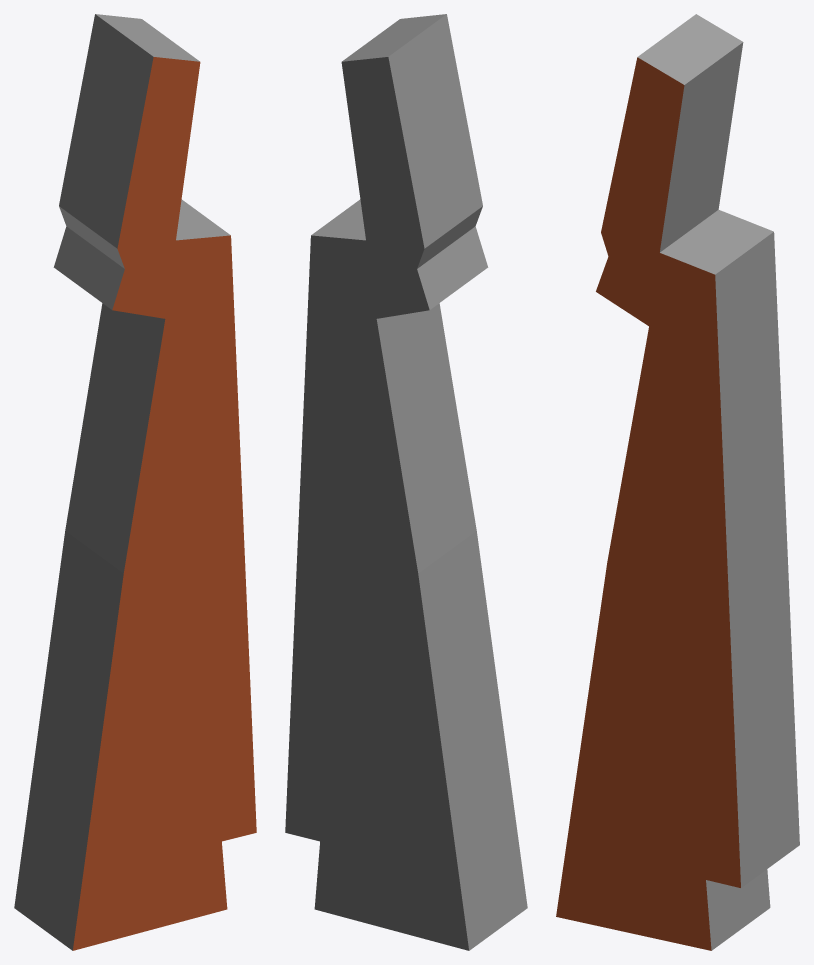
Rendered from construction_2116_assumed_A_Casa_h6m.obj.
3 views of the same model, side by side, from view 1: azimuth 30°, elevation 25°; view 2: azimuth 150°, elevation 25°; view 3: azimuth 330°, elevation 25° (orthographic).
Parts seen in each view (by area): view 1: construction_2116_assumed_A_Casa; view 2: construction_2116_assumed_A_Casa; view 3: construction_2116_assumed_A_Casa.
Part boxes in pixels (x1,y1,x2,y2): construction_2116_assumed_A_Casa: (14, 14, 256, 950); construction_2116_assumed_A_Casa: (285, 14, 527, 950); construction_2116_assumed_A_Casa: (556, 14, 799, 950).
Size of the model in its own units: 10.88 by 49.44 by 6.
